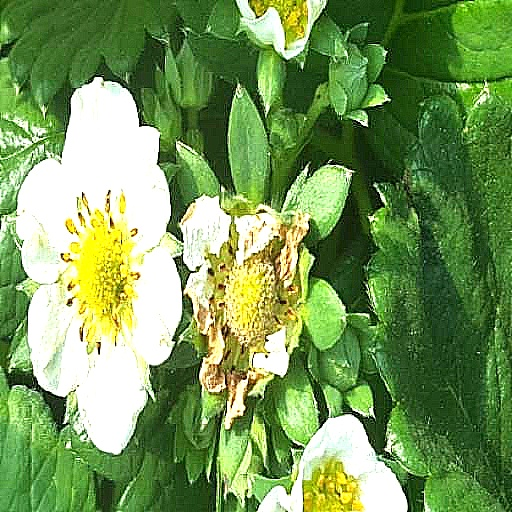Blossom Blight: (58, 187, 143, 357), (203, 232, 302, 377)
